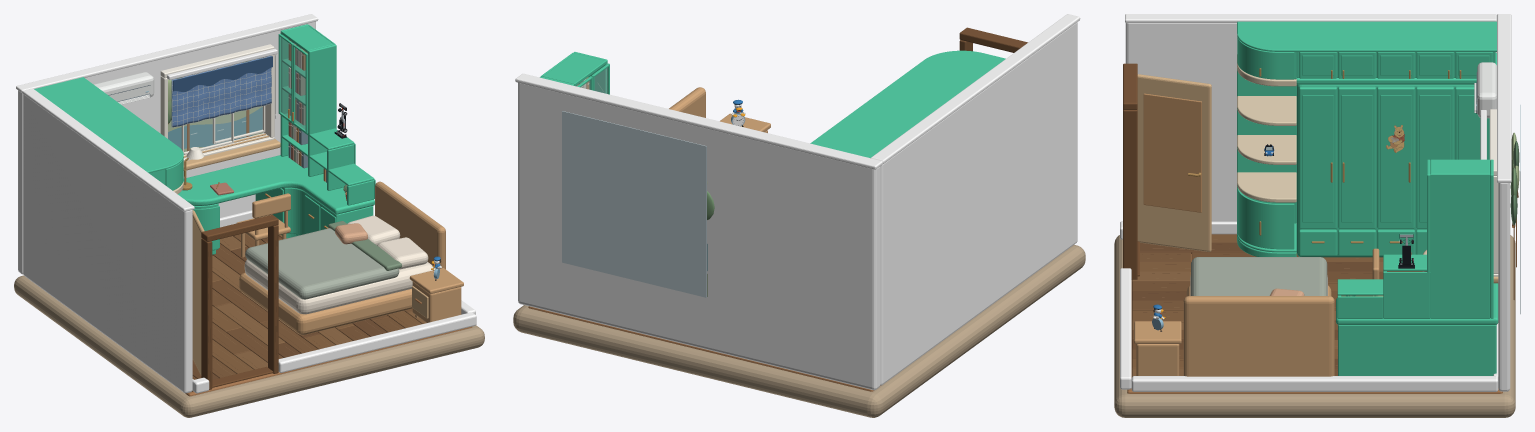
Rendered from room-01.glb.
3 renders of one model, left to right at view 1: azimuth 30°, elevation 25°; view 2: azimuth 150°, elevation 25°; view 3: azimuth 270°, elevation 25°, orthographic. The views are drawn at different scales.
Visible parts, largest first — view 1: Architecture, Bed, Window, Bookcase, Desk, Wardrobe, Door, Window view, Decor; view 2: Architecture, Window view, Wardrobe, Bookcase, Bed, Door; view 3: Wardrobe, Architecture, Bed, Door, Bookcase, Desk, Decor, Window, Window view.
Boxes of the visible parts, bbox=[...] form: Architecture: bbox=[14, 14, 484, 417]; Bed: bbox=[239, 181, 463, 335]; Window: bbox=[160, 44, 280, 170]; Bookcase: bbox=[278, 24, 375, 205]; Desk: bbox=[178, 147, 374, 257]; Wardrobe: bbox=[34, 77, 185, 194]; Door: bbox=[192, 210, 278, 389]; Window view: bbox=[168, 57, 262, 151]; Decor: bbox=[94, 72, 441, 280]; Architecture: bbox=[513, 14, 1085, 417]; Window view: bbox=[562, 111, 714, 297]; Wardrobe: bbox=[810, 50, 1005, 157]; Bookcase: bbox=[540, 52, 609, 94]; Bed: bbox=[669, 87, 770, 132]; Door: bbox=[959, 27, 1027, 52]; Wardrobe: bbox=[1237, 21, 1496, 257]; Architecture: bbox=[1114, 14, 1515, 417]; Bed: bbox=[1134, 257, 1334, 376]; Door: bbox=[1123, 63, 1211, 279]; Bookcase: bbox=[1337, 159, 1493, 318]; Desk: bbox=[1336, 248, 1498, 375]; Decor: bbox=[1152, 62, 1496, 331]; Window: bbox=[1480, 109, 1498, 283]; Window view: bbox=[1510, 104, 1520, 314].
Bounding box in the file's own units: 4.38 × 2.89 × 4.43.
65 materials, 1 textured.
